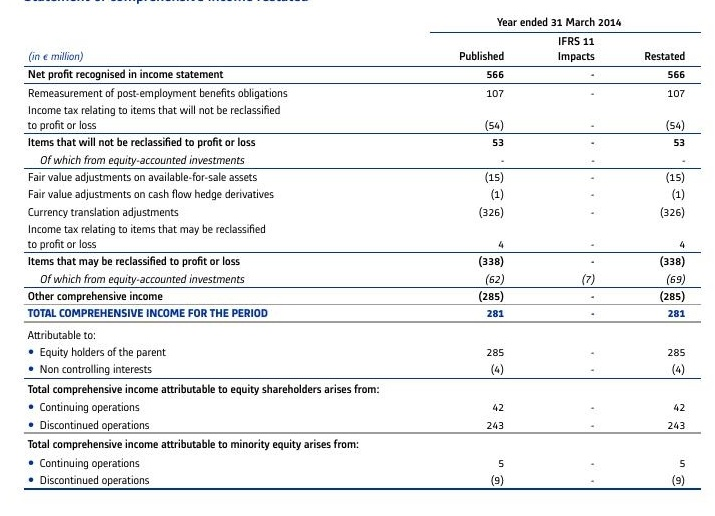table: (0, 0, 715, 516)
